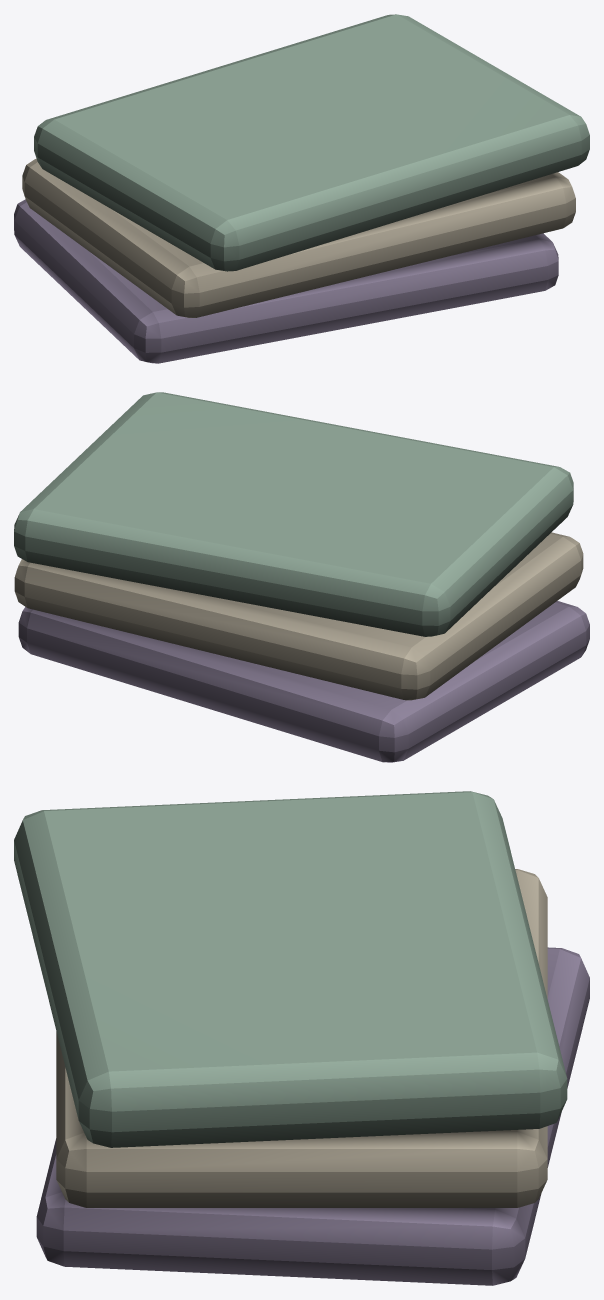
Rendered from Loot_Cloth.fbx.
3 views of the same model, one above another, from view 1: azimuth 30°, elevation 25°; view 2: azimuth 150°, elevation 25°; view 3: azimuth 270°, elevation 25° (orthographic). The views are drawn at different scales.
Visible parts, largest first — view 1: Loot_Cloth; view 2: Loot_Cloth; view 3: Loot_Cloth.
Boxes of the visible parts, <box> form: Loot_Cloth: <box>14,14,589,363</box>; Loot_Cloth: <box>14,392,589,762</box>; Loot_Cloth: <box>14,791,589,1285</box>.
Size of the model in its own units: 0.1989 by 0.066 by 0.1524.
